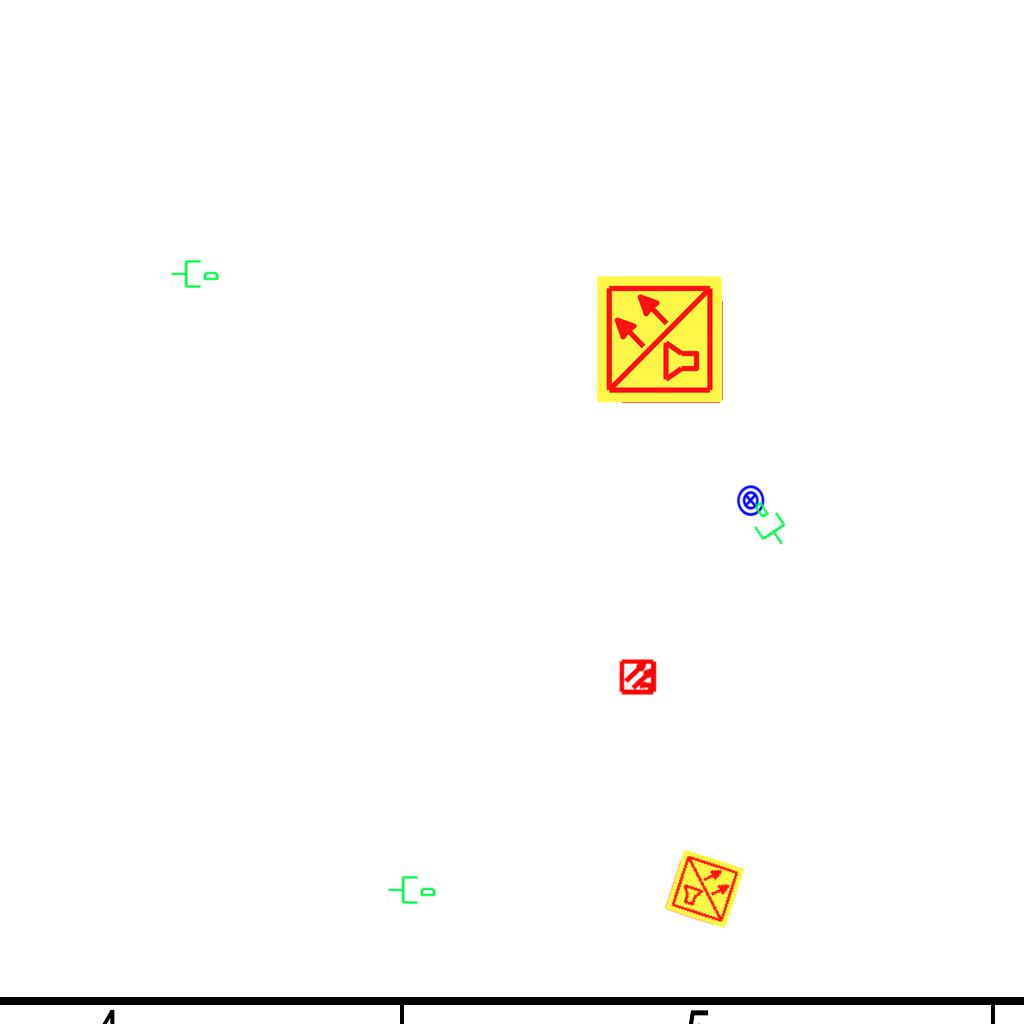Datenanschluss_einfach: (739, 494, 797, 556), (170, 256, 220, 290), (387, 872, 437, 906)
OKW_Multisensormelder_(Kombination_optischer_Rauch-Kahlenmonoxid_Waerme-Melder): (594, 273, 726, 405), (663, 847, 747, 931)
OT_Multisensormelder_(Kombination_RMO_WMD): (611, 649, 667, 705)
Taster_beleuchtet: (734, 484, 767, 517)
